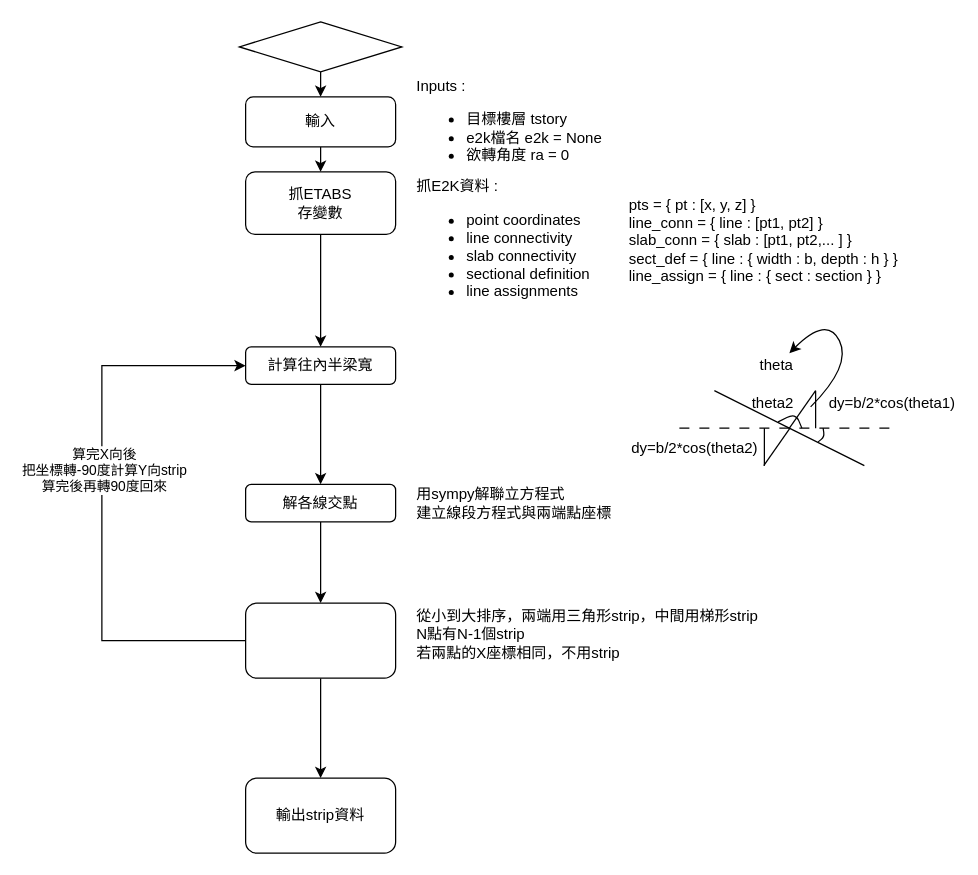
The diagram is 978 pixels wide and 875 high, and some of its shapes have lost their labels. The shapes that lost their labels are listed below. From the top down, each one's centre as x and y in pixels, then its label:
the point at 320,46: Start
the point at 320,640: 交點X座標排序 解各strip兩點及範圍
